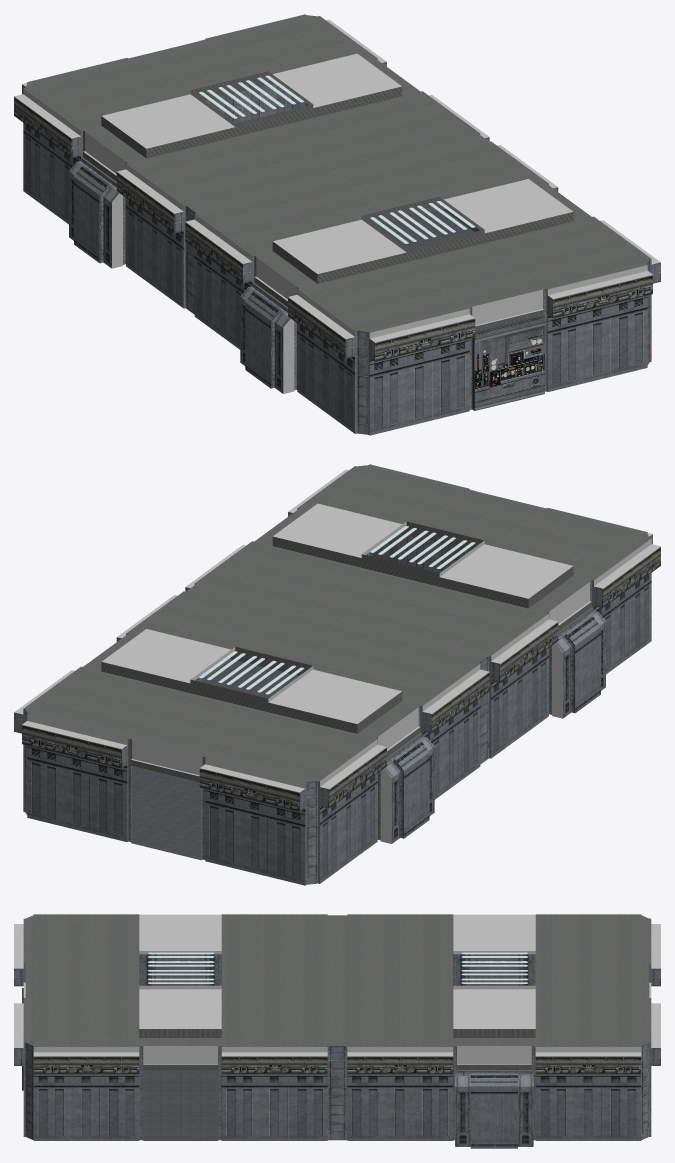
Rendered from poi_all_impl_bunker_small_outpost_s01_r21_warden_room_mesh.fbx.
The picture shows the model from 3 angles, top to bottom: view 1: azimuth 30°, elevation 25°; view 2: azimuth 150°, elevation 25°; view 3: azimuth 270°, elevation 25°; orthographic projection. The views are drawn at different scales.
Parts seen in each view (by area): view 1: mesh_node; view 2: mesh_node; view 3: mesh_node.
Part boxes in pixels (x1,y1,x2,y2): mesh_node: [14, 14, 660, 435]; mesh_node: [14, 464, 660, 885]; mesh_node: [14, 914, 660, 1148].
Size of the model in its own units: 17.8 by 6 by 33.
